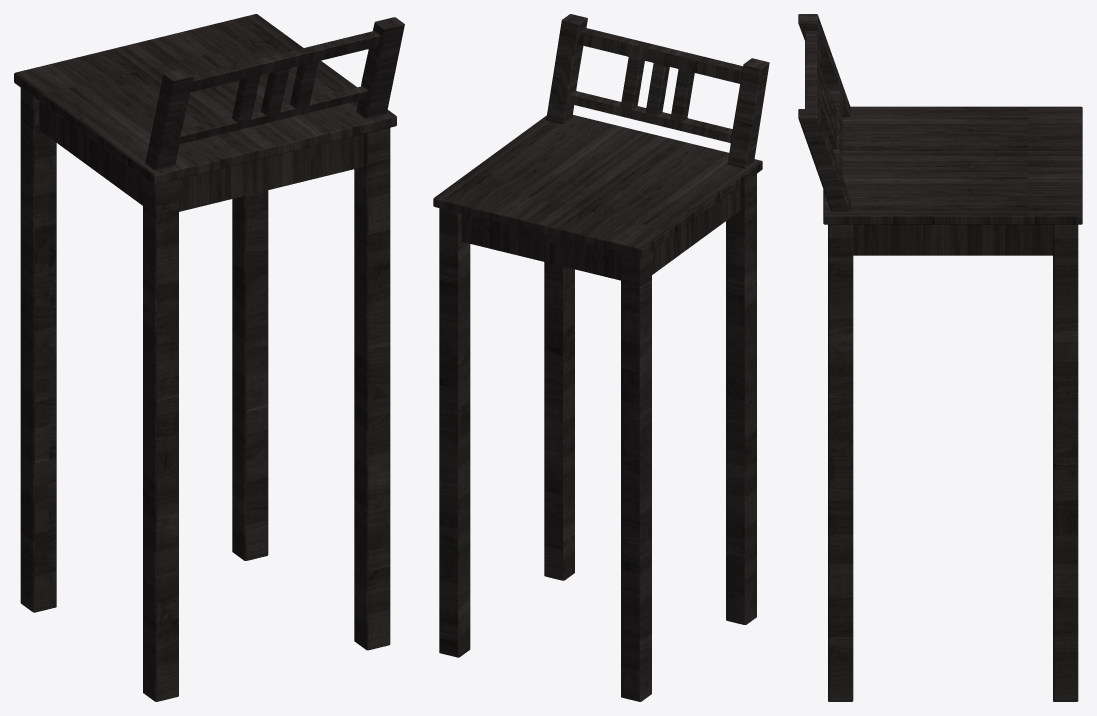
Rendered from tallChair.fbx.
3 views of the same model, side by side, from view 1: azimuth 30°, elevation 25°; view 2: azimuth 150°, elevation 25°; view 3: azimuth 270°, elevation 25° (orthographic). The views are drawn at different scales.
Parts seen in each view (by area): view 1: Cube; view 2: Cube; view 3: Cube.
Boxes of the visible parts, x1=… form: Cube: x1=14, y1=14, x2=404, y2=701; Cube: x1=433, y1=14, x2=769, y2=701; Cube: x1=798, y1=14, x2=1082, y2=701.
Size of the model in its own units: 200 by 496 by 219.
